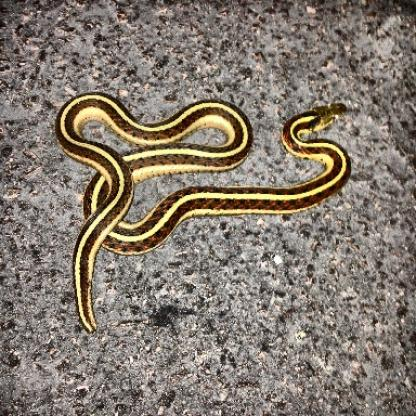Snake: (43, 89, 352, 327)
